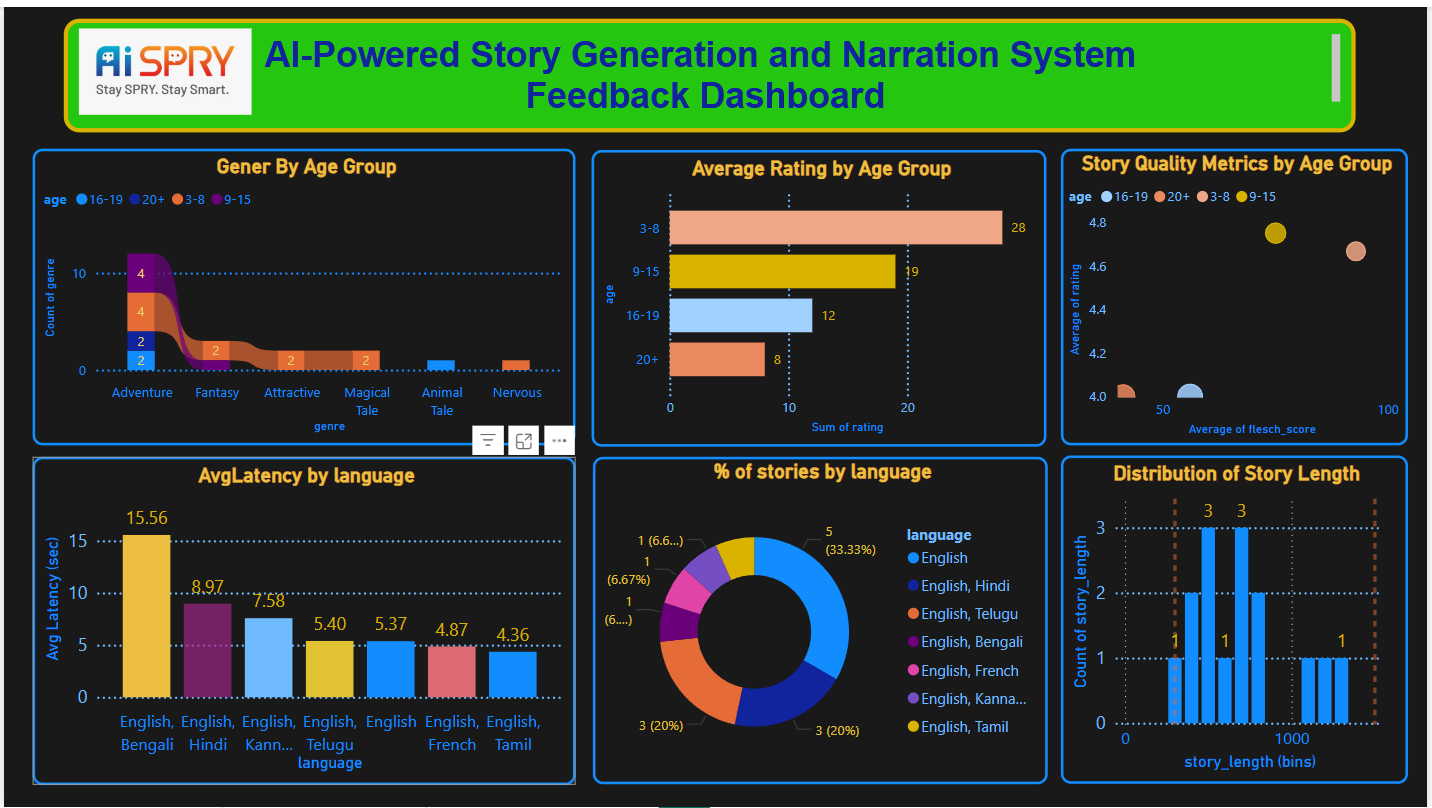

This screenshot's page, from the dashboard's own definition file:
{"tool":"powerbi","page":{"name":"Feedback_Dashboard","canvas":[1280,720],"ordinal":1},"visuals":[{"type":"textbox","box":[53.2,10.1,1162.3,102.7],"z":0},{"type":"image","box":[62.2,5.2,165.9,107.6],"z":1000},{"type":"clusteredBarChart","title":"Average Rating by Age Group","fields":{"Category":["feedback_df_ref.age"],"Y":["Sum(feedback_df_ref.rating)"]},"box":[528.8,128.3,409.5,267],"z":2000},{"type":"ribbonChart","title":"Gener By Age Group","fields":{"Category":["gener_analysis.genre"],"Series":["gener_analysis.age"],"Y":["CountNonNull(gener_analysis.genre)"]},"box":[25.9,127,488.6,267],"z":3000},{"type":"scatterChart","title":"Story Quality Metrics by Age Group","fields":{"X":["Avg(feedback_df_ref.flesch_score)"],"Y":["Avg(feedback_df_ref.rating)"],"Series":["feedback_df_ref.age"],"Size":["Avg(feedback_df_ref.latency)"]},"box":[951.3,127,312.3,267],"z":4000},{"type":"columnChart","fields":{"Category":["feedback_df_ref.language"],"Y":["feedback_df_ref.AvgLatency"]},"box":[25.9,404.3,488.6,295.5],"z":5000},{"type":"donutChart","title":"% of stories by language","fields":{"Category":["feedback_df_ref.language"],"Y":["CountNonNull(feedback_df_ref.story)"]},"box":[529.5,404.5,409.1,294.9],"z":6000},{"type":"columnChart","title":"Distribution of Story Length ","fields":{"Y":["CountNonNull(feedback_df_ref.story_length)"],"Category":["feedback_df_ref.story_length (bins)"]},"box":[951,404,312,295],"z":7000}]}

Visuals, with their boxes in screenshot pixels (x1, y1, x2, y2), scaled from the page's 1280x720 canvas onto the 1432x808 screenshot:
textbox: {"x1": 60, "y1": 11, "x2": 1360, "y2": 127}
image: {"x1": 70, "y1": 6, "x2": 255, "y2": 127}
"Average Rating by Age Group" clusteredBarChart: {"x1": 592, "y1": 144, "x2": 1050, "y2": 444}
"Gener By Age Group" ribbonChart: {"x1": 29, "y1": 143, "x2": 576, "y2": 442}
"Story Quality Metrics by Age Group" scatterChart: {"x1": 1064, "y1": 143, "x2": 1414, "y2": 442}
columnChart - feedback_df_ref.language x feedback_df_ref.AvgLatency: {"x1": 29, "y1": 454, "x2": 576, "y2": 785}
"% of stories by language" donutChart: {"x1": 592, "y1": 454, "x2": 1050, "y2": 785}
"Distribution of Story Length " columnChart: {"x1": 1064, "y1": 453, "x2": 1413, "y2": 784}
